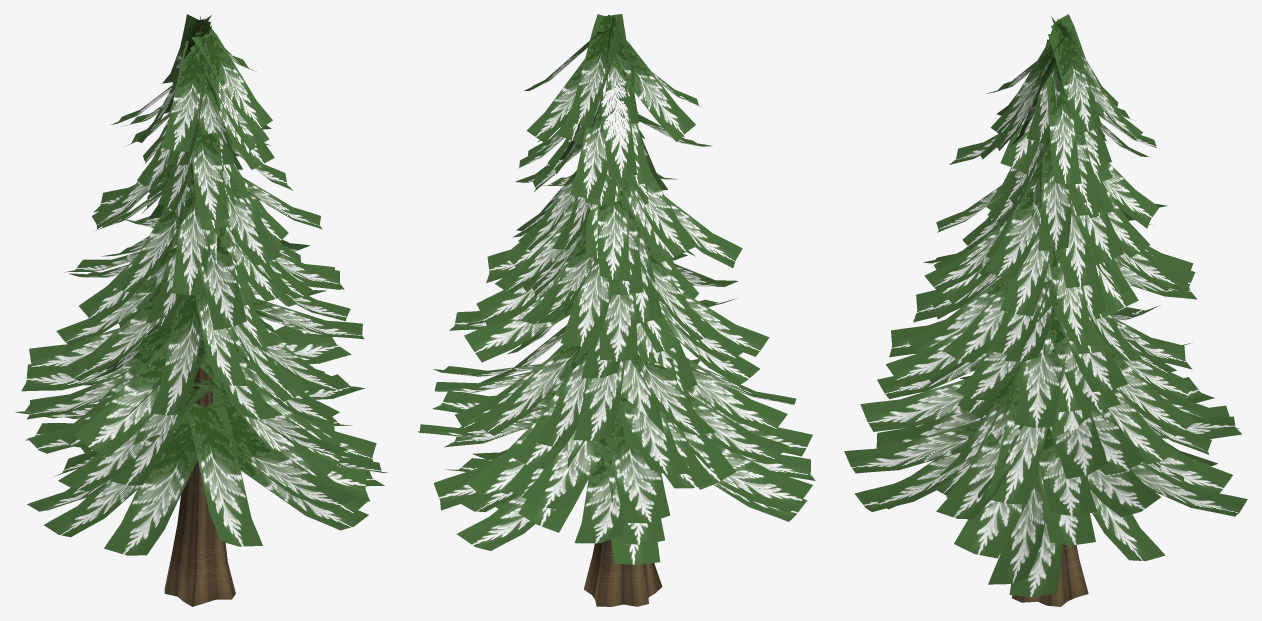
The model's file is Stylized_Conifer_Winter_LowPoly_FNL.fbx.
3 views of the same model, side by side, from view 1: azimuth 30°, elevation 25°; view 2: azimuth 150°, elevation 25°; view 3: azimuth 270°, elevation 25° (orthographic). The views are drawn at different scales.
Visible parts, largest first — view 1: Stylized_Conifer_Winter_LowPoly_GEO; view 2: Stylized_Conifer_Winter_LowPoly_GEO; view 3: Stylized_Conifer_Winter_LowPoly_GEO.
Part boxes in pixels (x1,y1,x2,y2): Stylized_Conifer_Winter_LowPoly_GEO: (15,14,387,606); Stylized_Conifer_Winter_LowPoly_GEO: (418,14,815,606); Stylized_Conifer_Winter_LowPoly_GEO: (844,14,1247,606).
Size of the model in its own units: 19.85 by 20.22 by 31.82.
